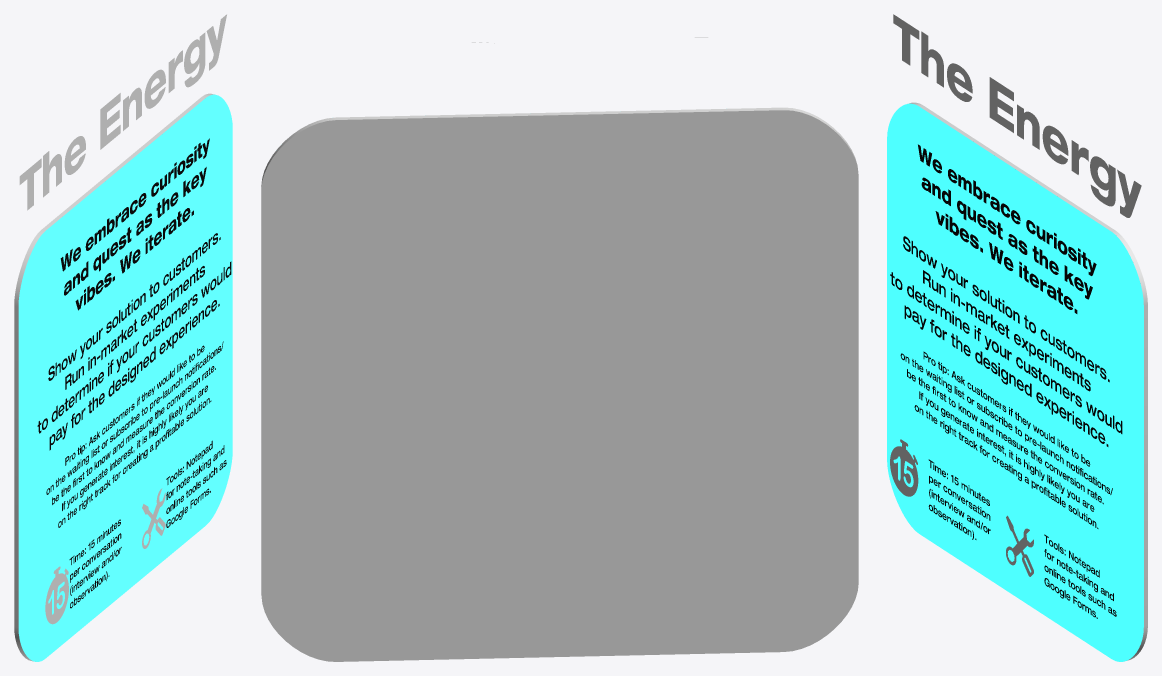
The picture shows the model from 3 angles, left to right: view 1: azimuth 30°, elevation 25°; view 2: azimuth 150°, elevation 25°; view 3: azimuth 270°, elevation 25°; orthographic projection. The views are drawn at different scales.
Visible parts, largest first — view 1: dd.001, dd.002, dd.003, dd.004, dd; view 2: dd.001; view 3: dd.001, dd.002, dd.003, dd.004, dd.
Boxes of the visible parts, x1,y1,x2,y2 form: dd.001: (14,93,232,661); dd.002: (37,233,231,608); dd.003: (19,14,226,210); dd.004: (60,138,209,310); dd: (45,488,165,624); dd.001: (261,107,858,661); dd.001: (887,102,1147,661); dd.002: (890,236,1122,618); dd.003: (893,14,1141,217); dd.004: (918,144,1096,313); dd: (890,439,1033,576).
Bounding box in the file's own units: 4.98 × 6.94 × 3.27.
